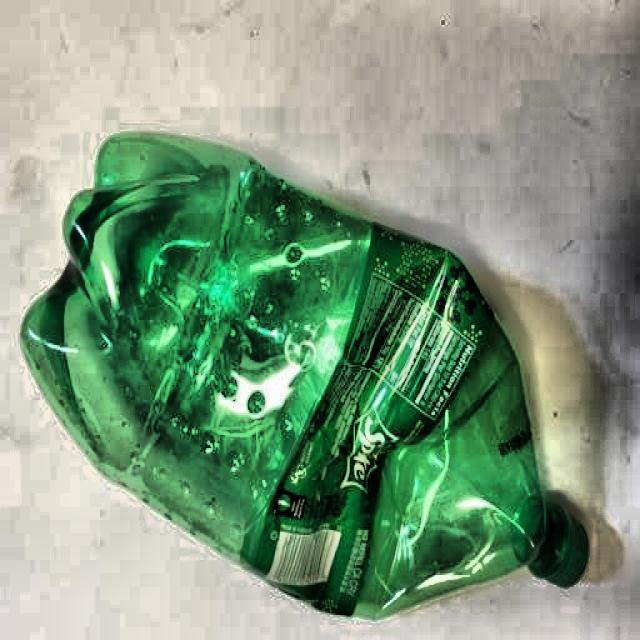plastic: (24, 135, 592, 622)
